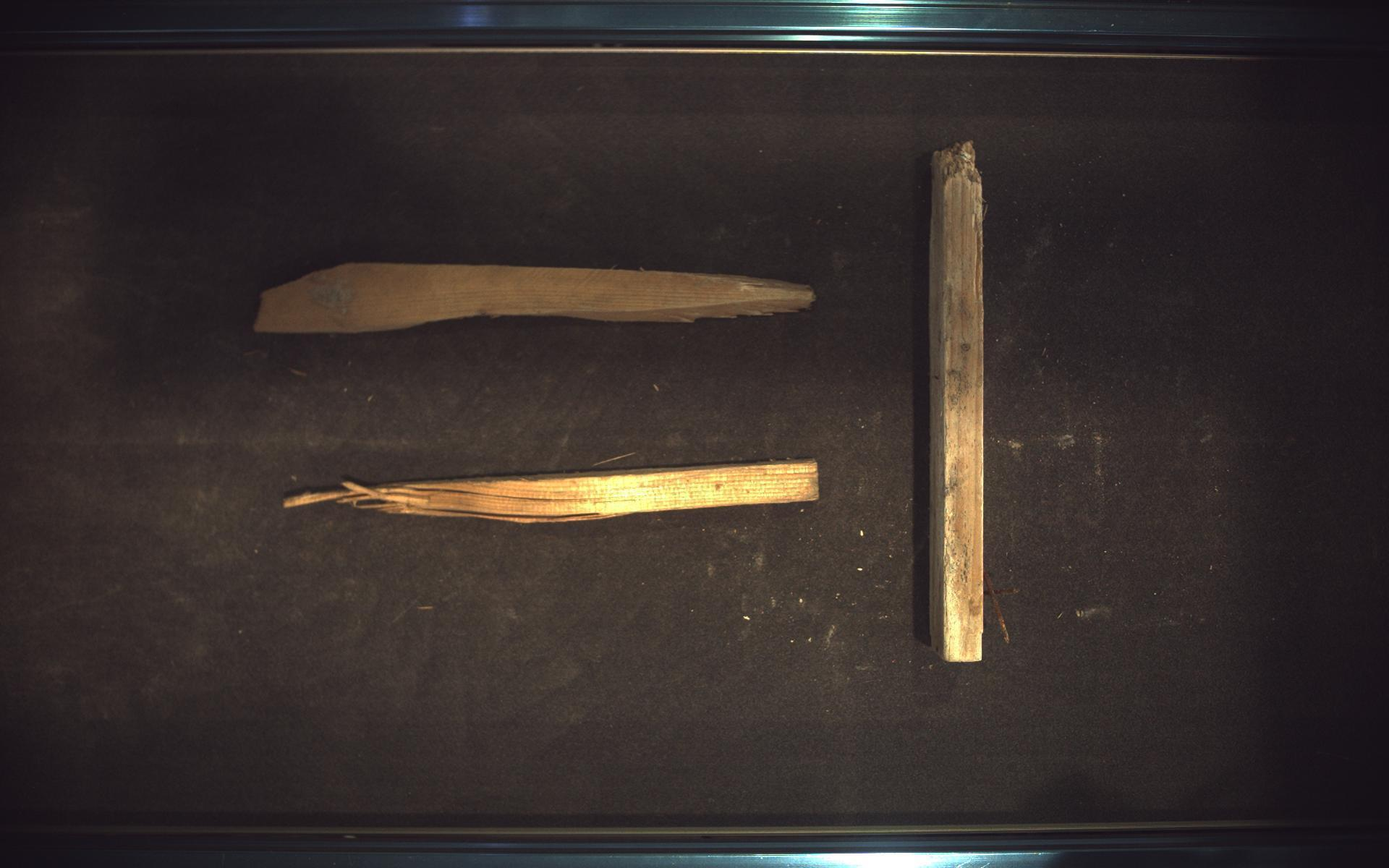wood: (253, 263, 816, 333), (282, 459, 820, 524), (932, 141, 986, 663)
